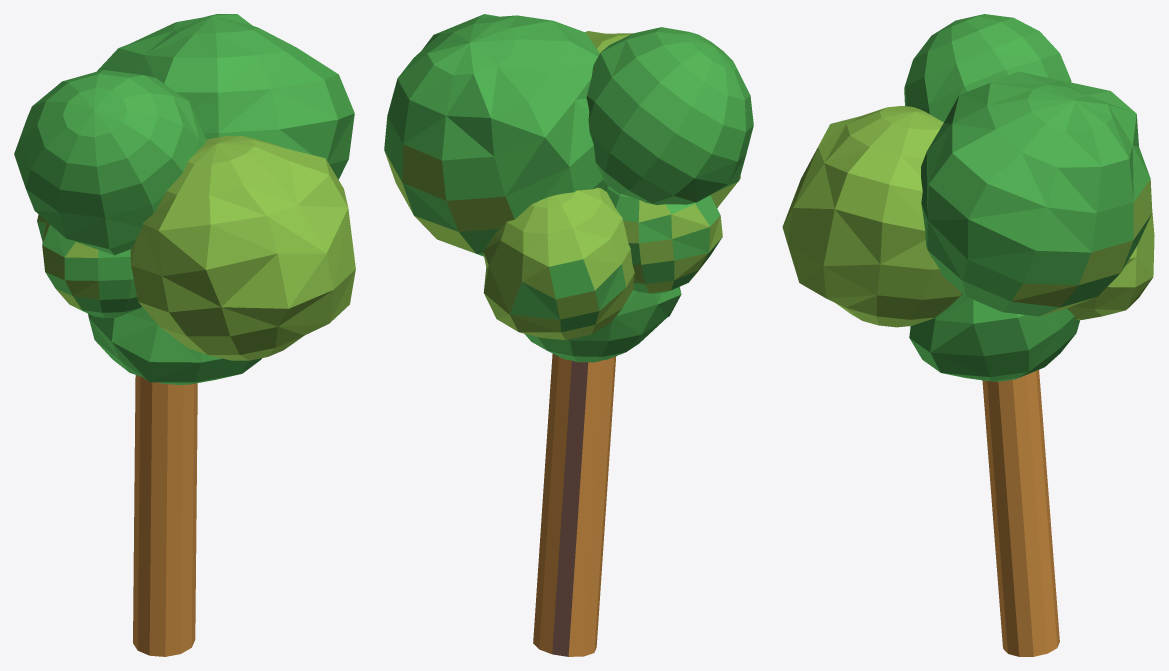
File: model-triangulated.obj
The picture shows the model from 3 angles, left to right: view 1: azimuth 30°, elevation 25°; view 2: azimuth 150°, elevation 25°; view 3: azimuth 270°, elevation 25°; orthographic projection. The views are drawn at different scales.
Parts seen in each view (by area): view 1: group551767510, group1604754233, group159395430, group2101560688, group605167641, group1479662644; view 2: group159395430, group1604754233, group2101560688, group1915405769, group1479662644, group605167641, group551767510; view 3: group159395430, group551767510, group2101560688, group1604754233, group605167641, group1915405769.
Boxes of the visible parts, x1=… form: group551767510: x1=130, y1=136, x2=355, y2=360; group1604754233: x1=14, y1=70, x2=206, y2=255; group159395430: x1=97, y1=14, x2=354, y2=179; group2101560688: x1=133, y1=375, x2=197, y2=656; group605167641: x1=88, y1=306, x2=262, y2=384; group1479662644: x1=42, y1=221, x2=141, y2=317; group159395430: x1=384, y1=14, x2=607, y2=256; group1604754233: x1=586, y1=27, x2=753, y2=204; group2101560688: x1=533, y1=354, x2=616, y2=656; group1915405769: x1=483, y1=187, x2=634, y2=340; group1479662644: x1=605, y1=185, x2=722, y2=293; group605167641: x1=524, y1=287, x2=681, y2=362; group551767510: x1=585, y1=31, x2=740, y2=207; group159395430: x1=921, y1=71, x2=1152, y2=316; group551767510: x1=782, y1=106, x2=962, y2=327; group2101560688: x1=982, y1=370, x2=1059, y2=656; group1604754233: x1=904, y1=14, x2=1071, y2=122; group605167641: x1=909, y1=294, x2=1080, y2=381; group1915405769: x1=1067, y1=213, x2=1154, y2=320.
Size of the model in its own units: 2.81 by 4.97 by 2.85.
